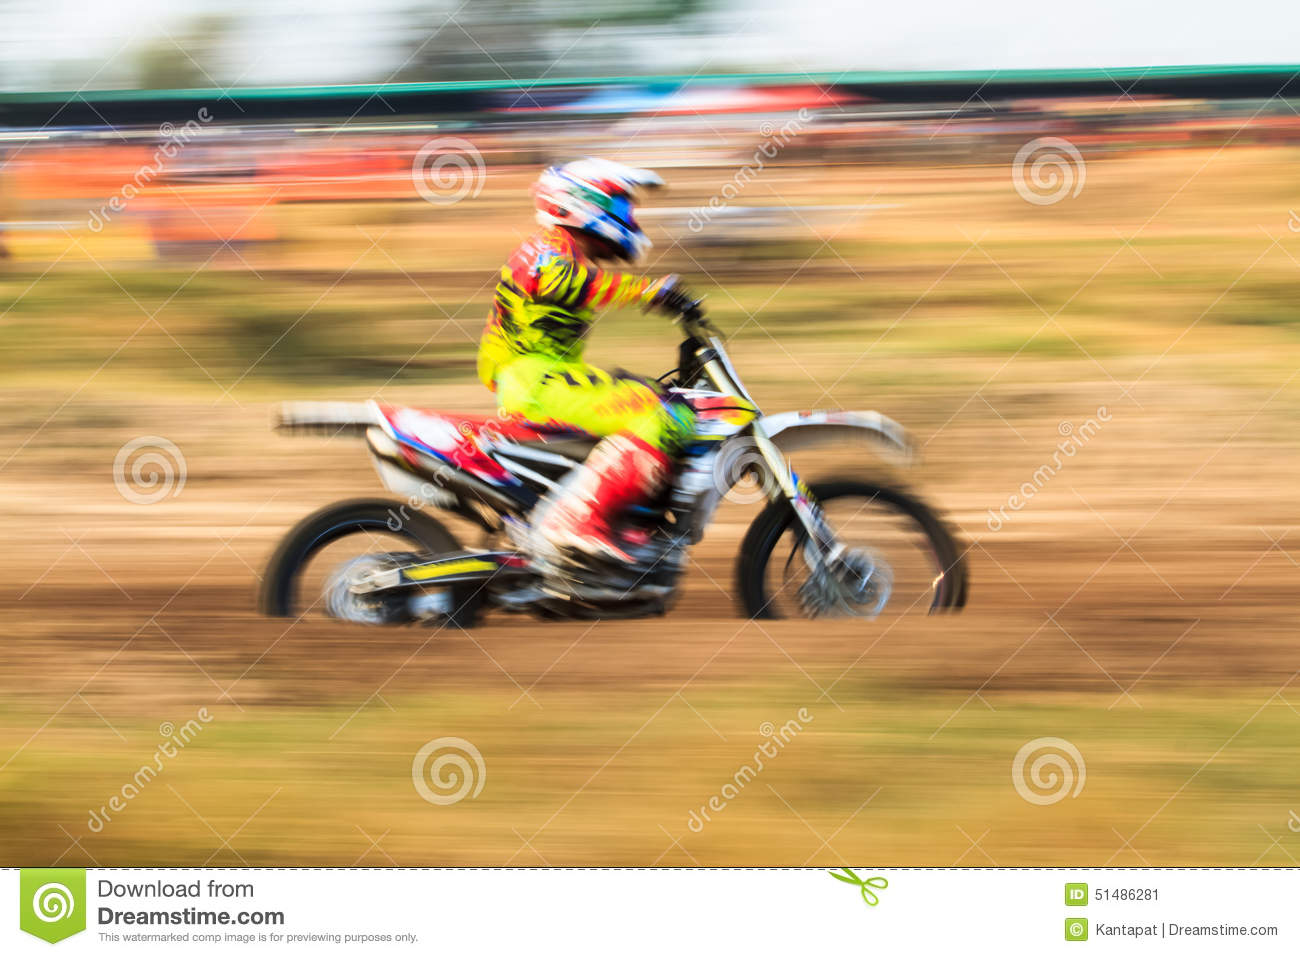helmet: (540, 149, 665, 264)
